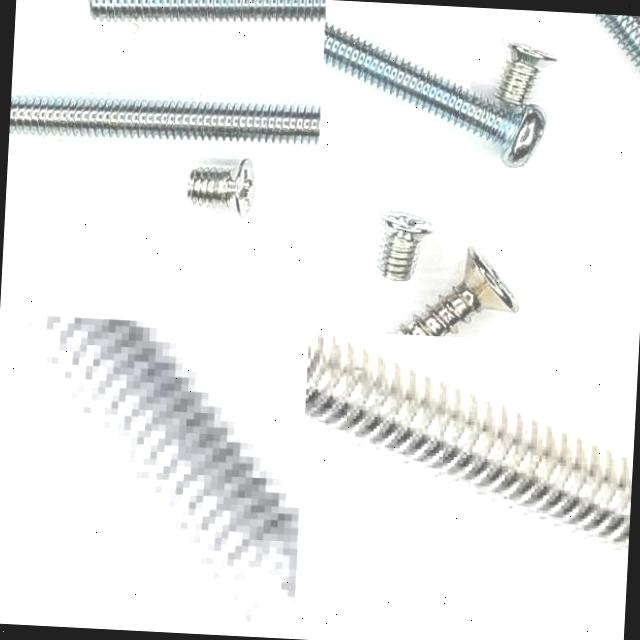Screw: (0, 314, 301, 639), (304, 330, 634, 558), (323, 23, 547, 167), (9, 96, 321, 146), (398, 247, 519, 337), (88, 0, 326, 21), (187, 160, 255, 219), (379, 214, 434, 282), (498, 43, 558, 105), (597, 14, 640, 69)
